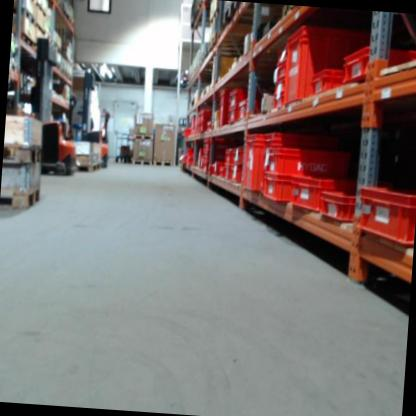pallet: (0, 182, 42, 215), (2, 141, 43, 168), (222, 1, 242, 27), (21, 8, 36, 25), (152, 158, 175, 168), (20, 33, 35, 48), (207, 31, 217, 53), (133, 133, 154, 142), (131, 158, 152, 167), (36, 4, 48, 19), (210, 8, 220, 26), (35, 24, 47, 38)
pallet_truck: (16, 30, 87, 181), (73, 66, 115, 167)
small_load_carrier: (282, 18, 362, 112), (256, 128, 332, 200), (355, 179, 416, 248), (340, 40, 416, 87), (264, 146, 350, 178), (290, 174, 350, 216), (304, 62, 344, 99), (319, 191, 362, 225), (241, 132, 263, 191), (260, 178, 294, 204), (235, 96, 261, 124), (214, 88, 230, 127), (224, 104, 242, 125), (274, 43, 290, 66), (230, 147, 247, 165), (227, 87, 240, 110), (229, 165, 245, 183), (271, 77, 287, 95), (221, 150, 236, 168), (275, 62, 287, 78), (221, 165, 233, 180), (270, 94, 285, 106), (213, 160, 221, 176)
